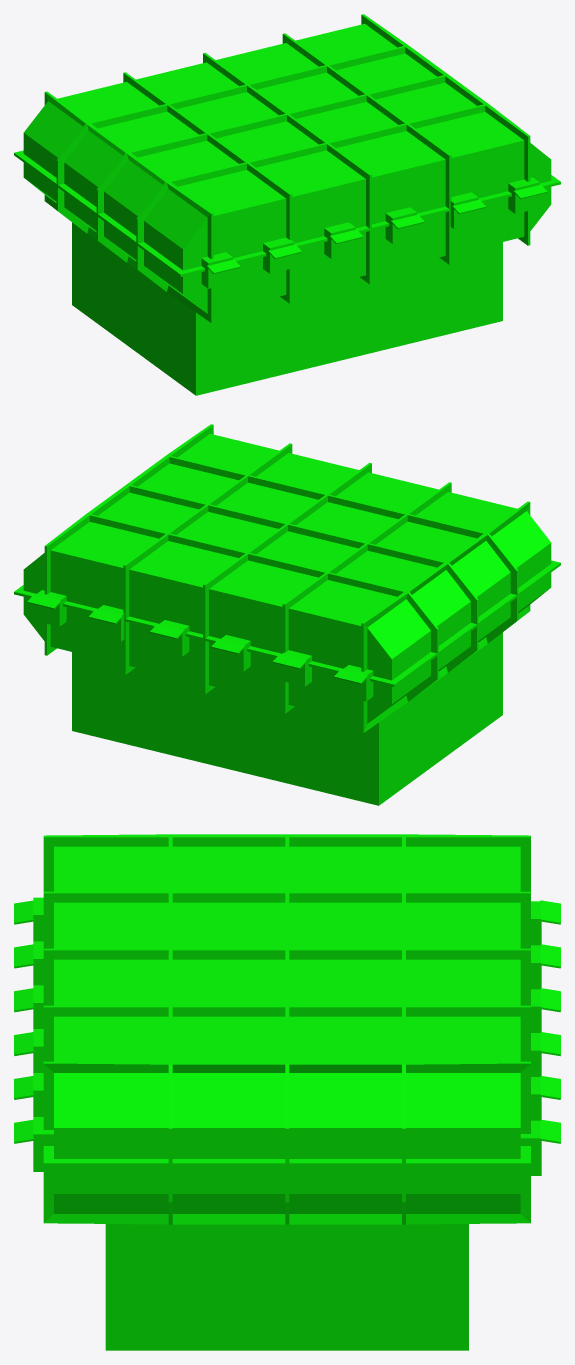
File: Casting_Machine04.fbx
The picture shows the model from 3 angles, top to bottom: view 1: azimuth 30°, elevation 25°; view 2: azimuth 150°, elevation 25°; view 3: azimuth 270°, elevation 25°; orthographic projection. The views are drawn at different scales.
Parts seen in each view (by area): view 1: Casting_Machine04_LOD0; view 2: Casting_Machine04_LOD0; view 3: Casting_Machine04_LOD0.
Part boxes in pixels (x1,y1,x2,y2): Casting_Machine04_LOD0: (14,14,560,395); Casting_Machine04_LOD0: (14,424,560,805); Casting_Machine04_LOD0: (14,834,560,1350).
Size of what is drawn, in the model's own units: 310 by 155 by 264.
